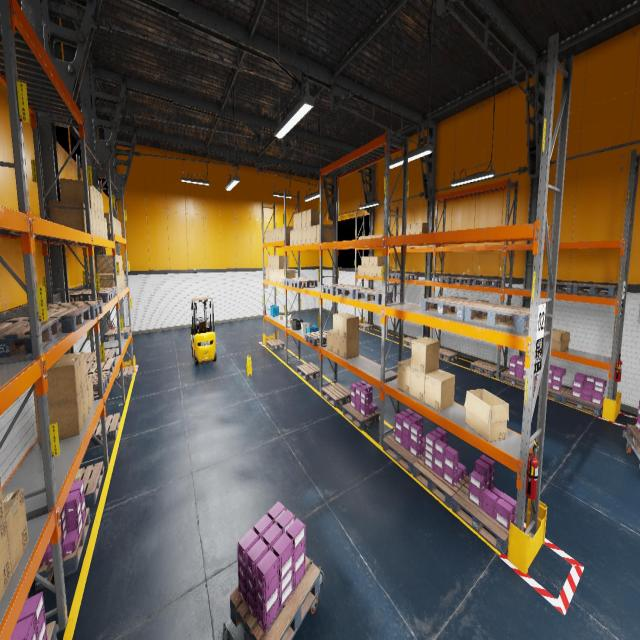box: (35, 391, 85, 446), (34, 358, 82, 408), (464, 389, 509, 441), (2, 488, 28, 577), (424, 369, 455, 411), (49, 200, 87, 232), (59, 178, 95, 211), (58, 352, 88, 389), (411, 337, 440, 374), (410, 368, 437, 402), (0, 518, 11, 601), (397, 358, 411, 395), (339, 314, 359, 338), (551, 328, 570, 352), (339, 337, 359, 359), (333, 312, 351, 336), (96, 255, 118, 273), (99, 273, 118, 291), (316, 224, 334, 243), (82, 383, 90, 422), (99, 274, 114, 294), (306, 209, 322, 227), (87, 375, 94, 412), (0, 476, 4, 524), (282, 269, 295, 283), (282, 226, 293, 240), (276, 256, 288, 268), (416, 222, 428, 234), (327, 329, 333, 352), (93, 186, 98, 213), (333, 334, 339, 355), (279, 268, 288, 282), (95, 212, 100, 237), (98, 214, 103, 238), (104, 213, 110, 233), (92, 209, 96, 236), (97, 189, 101, 215), (100, 192, 104, 217), (382, 266, 392, 276), (373, 256, 383, 266), (311, 225, 316, 244), (306, 226, 311, 244), (104, 218, 108, 240), (90, 208, 93, 235), (302, 210, 306, 228), (298, 212, 302, 229), (294, 213, 298, 230), (102, 216, 105, 238), (410, 223, 416, 234), (302, 228, 306, 244), (298, 228, 302, 244), (278, 227, 282, 241), (377, 266, 382, 277), (113, 216, 116, 234), (117, 255, 120, 272), (294, 229, 297, 245), (290, 230, 293, 245), (406, 224, 410, 235), (273, 268, 276, 282), (373, 266, 377, 276), (369, 266, 373, 276), (365, 266, 369, 276), (369, 256, 373, 266), (270, 229, 273, 242), (276, 269, 279, 282), (119, 272, 121, 290), (265, 230, 268, 242), (273, 256, 276, 268), (270, 256, 273, 268), (361, 266, 365, 275), (365, 256, 369, 265), (115, 218, 117, 235), (120, 272, 122, 289), (119, 255, 121, 272), (116, 220, 118, 236), (118, 220, 120, 236), (117, 275, 119, 291), (122, 272, 124, 288), (123, 271, 125, 287), (120, 256, 122, 272), (120, 222, 122, 237), (284, 318, 290, 323), (285, 314, 291, 319), (358, 265, 361, 275), (399, 225, 402, 235), (362, 256, 365, 265), (276, 228, 278, 241), (271, 268, 273, 281), (278, 315, 284, 319), (273, 229, 275, 241), (268, 230, 270, 242), (268, 268, 270, 280), (266, 268, 268, 280), (268, 256, 270, 268), (288, 319, 292, 324), (378, 234, 383, 237), (113, 218, 114, 230), (374, 235, 378, 238), (366, 235, 370, 238), (362, 236, 366, 239), (283, 316, 285, 319)
forklift: (191, 298, 216, 365)
pallets: (230, 556, 320, 639), (33, 508, 90, 591), (452, 480, 515, 554), (412, 456, 469, 508), (0, 318, 60, 357), (5, 306, 90, 333), (464, 302, 530, 332), (383, 433, 424, 474), (421, 296, 482, 320), (73, 461, 104, 508), (561, 388, 603, 416), (47, 300, 103, 320), (342, 402, 379, 430), (90, 412, 120, 446), (534, 378, 568, 402), (321, 383, 350, 408), (500, 370, 535, 389), (86, 357, 115, 378), (572, 283, 618, 296), (87, 371, 110, 396), (69, 290, 113, 303), (355, 289, 393, 304), (470, 360, 501, 378), (85, 348, 117, 364), (77, 287, 117, 299), (296, 362, 320, 380), (336, 286, 371, 298), (626, 424, 640, 454), (112, 366, 134, 384), (321, 283, 354, 295), (541, 281, 577, 292), (104, 327, 131, 341), (304, 331, 327, 346), (473, 278, 501, 288), (439, 348, 458, 361), (290, 279, 317, 288), (451, 277, 479, 285), (46, 620, 57, 640), (266, 339, 284, 350), (283, 278, 306, 286), (435, 276, 459, 283), (398, 274, 418, 280), (387, 273, 406, 279), (359, 322, 373, 330), (404, 337, 415, 347)
